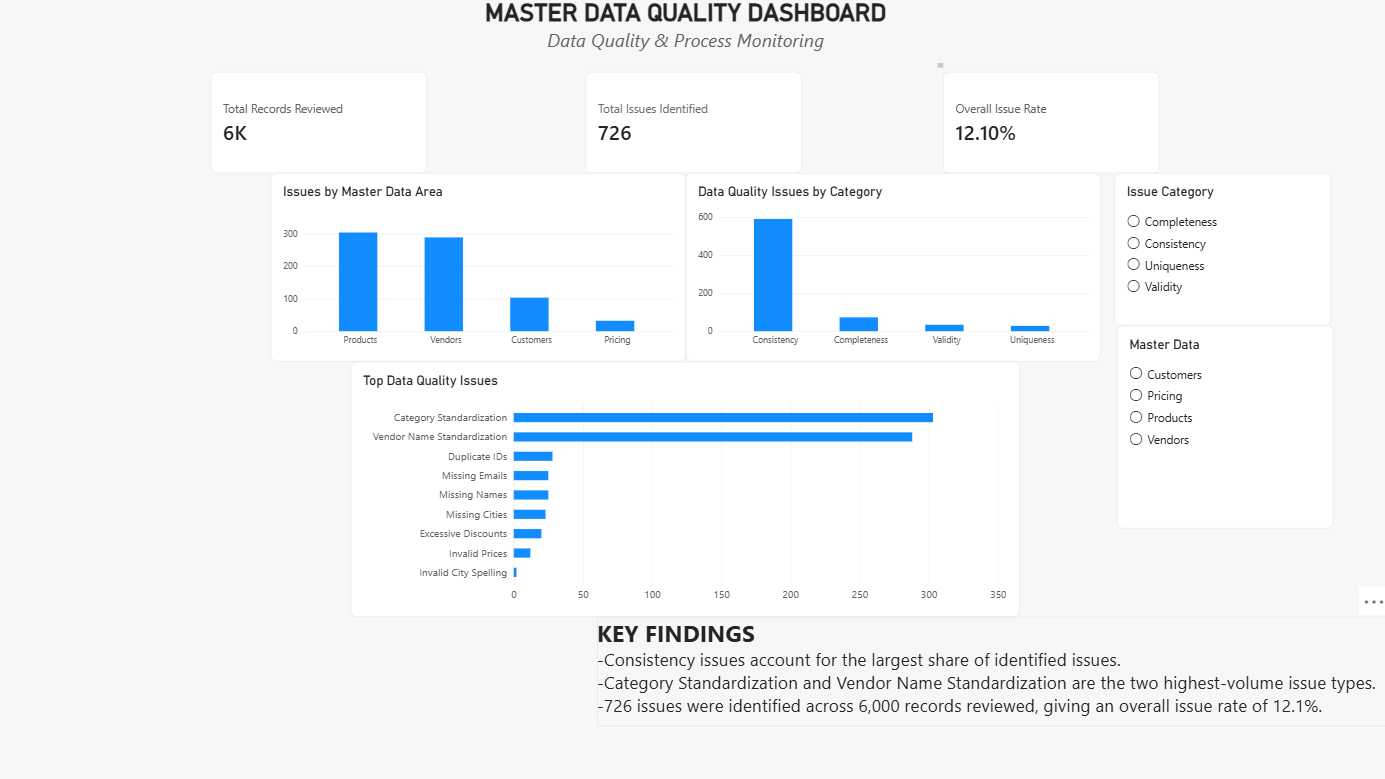

Layout of this report page (visuals, bound fields, positions):
{"tool":"powerbi","page":{"name":"Page 1","canvas":[1920,1080],"ordinal":0},"visuals":[{"type":"cardVisual","fields":{"Data":["Data_Quality_Summary.Total Records Reviewed"]},"box":[295,102.5,298,140],"z":0},{"type":"cardVisual","title":"Total Issues Identified","fields":{"Data":["Sum(Issue_Log.Issue Count)"]},"box":[812.5,102.5,298,140],"z":1000},{"type":"cardVisual","fields":{"Data":["Data_Quality_Summary.Overall Issue Rate"]},"box":[1305,102.5,298,140],"z":2000},{"type":"clusteredColumnChart","title":"Data Quality Issues by Category","fields":{"Category":["Issue_Log.Issue Category"],"Y":["Sum(Issue_Log.Issue Count)"]},"box":[950,242,572,260],"z":3000},{"type":"clusteredColumnChart","title":"Issues by Master Data Area","fields":{"Category":["Issue_Log.Master Data"],"Y":["Sum(Issue_Log.Issue Count)"]},"box":[378,242,572,260],"z":4000},{"type":"barChart","title":"Top Data Quality Issues","fields":{"Category":["Issue_Log.Issue Type"],"Y":["Sum(Issue_Log.Issue Count)"]},"box":[488,502,922,352],"z":4001},{"type":"listSlicer","fields":{"Values":["Issue_Log.Master Data"]},"box":[1544,452,298,280],"z":4002},{"type":"listSlicer","fields":{"Values":["Issue_Log.Issue Category"]},"box":[1542,242,298,210],"z":4003},{"type":"textbox","title":"MASTER DATA QUALITY DASHBOARD","box":[595,0,710,96],"z":4004},{"type":"textbox","box":[828,854,1092,152],"z":4005}]}

Visuals, with their boxes in screenshot pixels (x1, y1, x2, y2), scaled from the page's 1920x1080 canvas onto the 1385x779 screenshot:
cardVisual - Data_Quality_Summary.Total Records Reviewed: [213,74,428,175]
"Total Issues Identified" cardVisual: [586,74,801,175]
cardVisual - Data_Quality_Summary.Overall Issue Rate: [941,74,1156,175]
"Data Quality Issues by Category" clusteredColumnChart: [685,175,1098,362]
"Issues by Master Data Area" clusteredColumnChart: [273,175,685,362]
"Top Data Quality Issues" barChart: [352,362,1017,616]
listSlicer - Issue_Log.Master Data: [1114,326,1329,528]
listSlicer - Issue_Log.Issue Category: [1112,175,1327,326]
"MASTER DATA QUALITY DASHBOARD" textbox: [429,0,941,69]
textbox: [597,616,1384,726]
